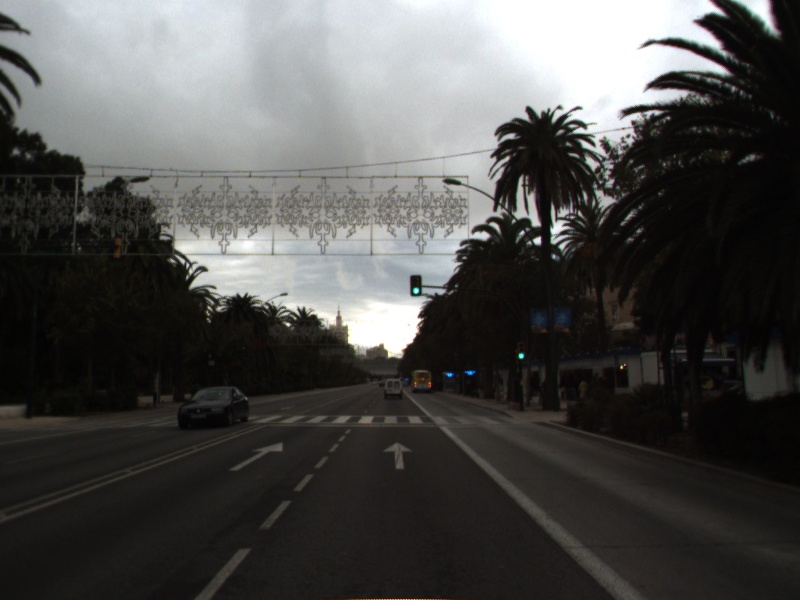STRAIGHT: (227, 440, 285, 473), (381, 440, 416, 471)
